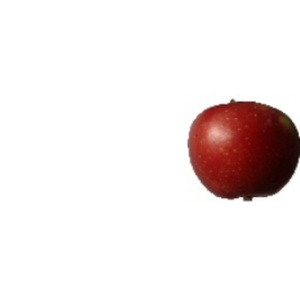maçã braeburn: (186, 99, 300, 197)
